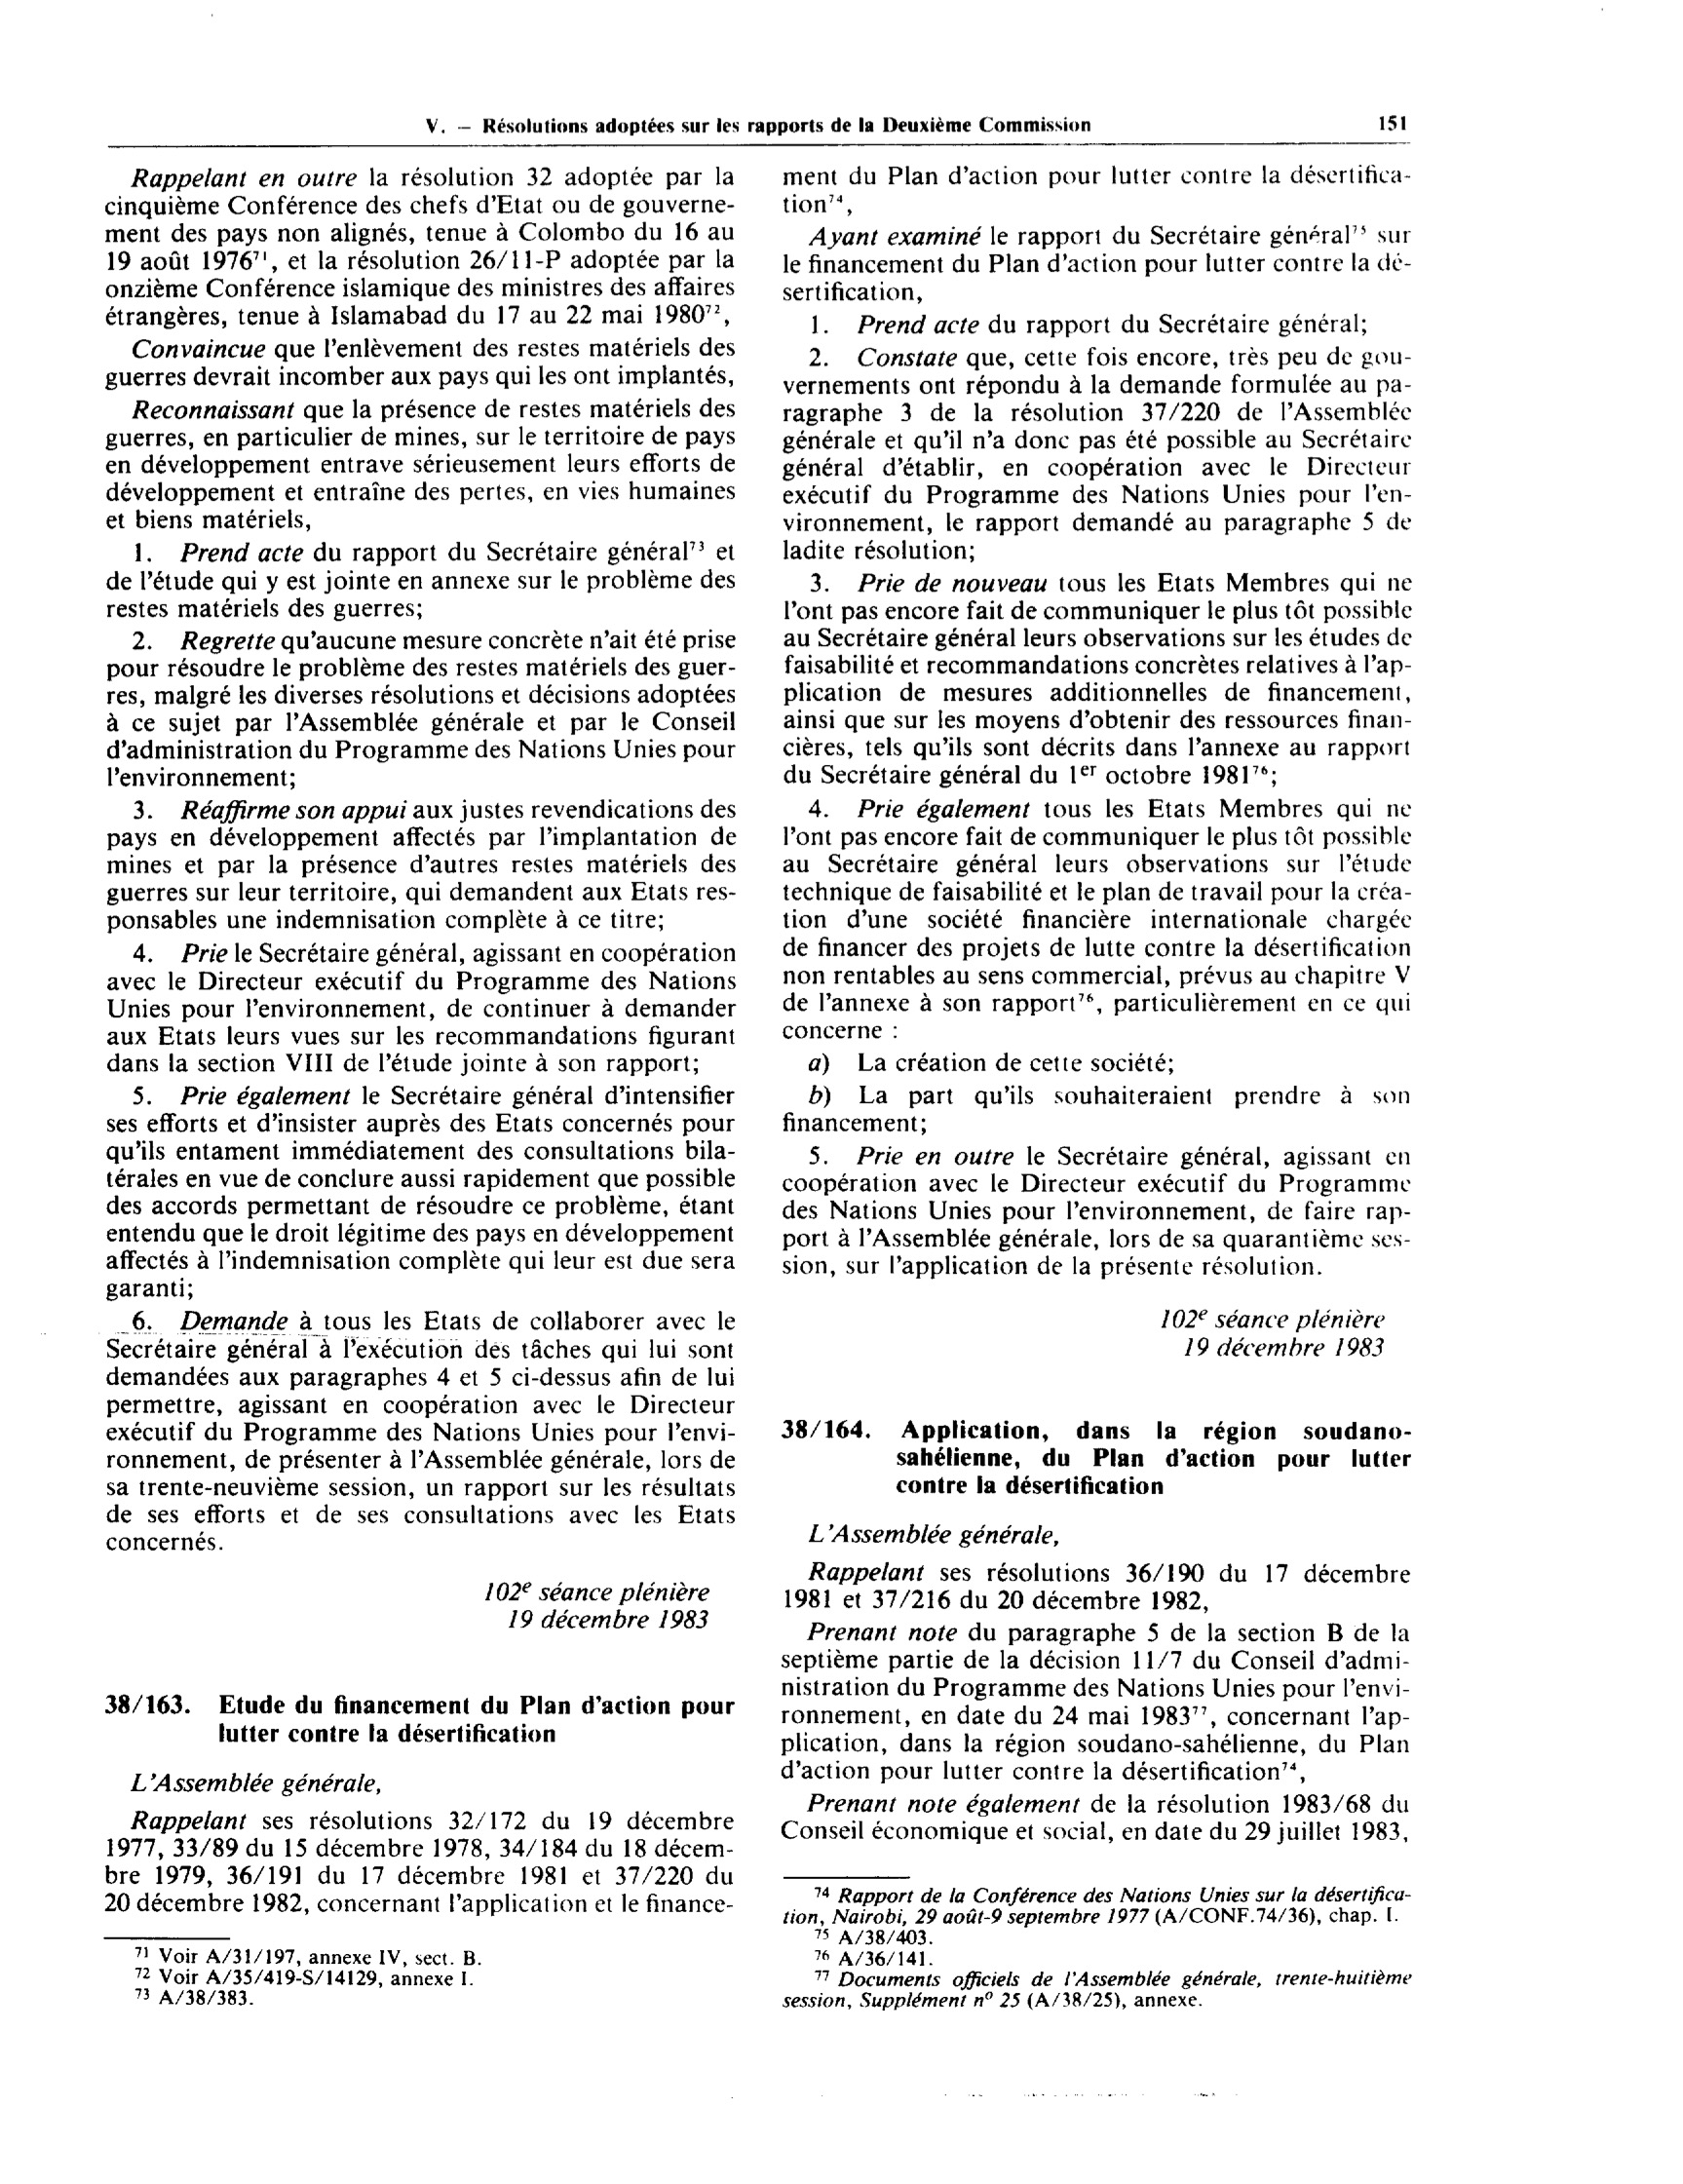MainZone-Continued: (775, 157, 1419, 217)
MainZone-Date: (1173, 1338, 1394, 1372), (490, 1615, 719, 1643)
MainZone-Head: (776, 1408, 1418, 1501), (99, 1682, 739, 1752)
MainZone-ListItem: (98, 1305, 745, 1560), (778, 792, 1418, 1044), (778, 342, 1421, 566), (98, 1079, 745, 1301), (778, 566, 1420, 787), (97, 625, 746, 792), (97, 794, 748, 935), (98, 936, 745, 1077), (96, 394, 745, 533), (776, 1141, 1417, 1282), (97, 535, 749, 624), (775, 1082, 1419, 1140), (777, 306, 1412, 341), (774, 1047, 1196, 1082)
MainZone-P: (96, 158, 747, 332), (776, 1618, 1419, 1785), (97, 1805, 741, 1922), (775, 220, 1419, 306), (776, 1788, 1418, 1853), (96, 332, 747, 392), (776, 1555, 1418, 1615), (108, 1762, 390, 1800), (800, 1514, 1067, 1552)
MainZone-Signature: (1144, 1299, 1397, 1340), (470, 1575, 724, 1612)
MarginTextZone-Notes: (775, 1969, 1422, 2021), (767, 1879, 1412, 1928), (130, 1941, 488, 1968), (126, 1965, 483, 1986), (808, 1947, 938, 1973), (130, 1987, 257, 2011), (813, 1925, 937, 1946)
NumberingZone: (1375, 105, 1415, 143)
RunningTitleZone: (409, 104, 1101, 147)
